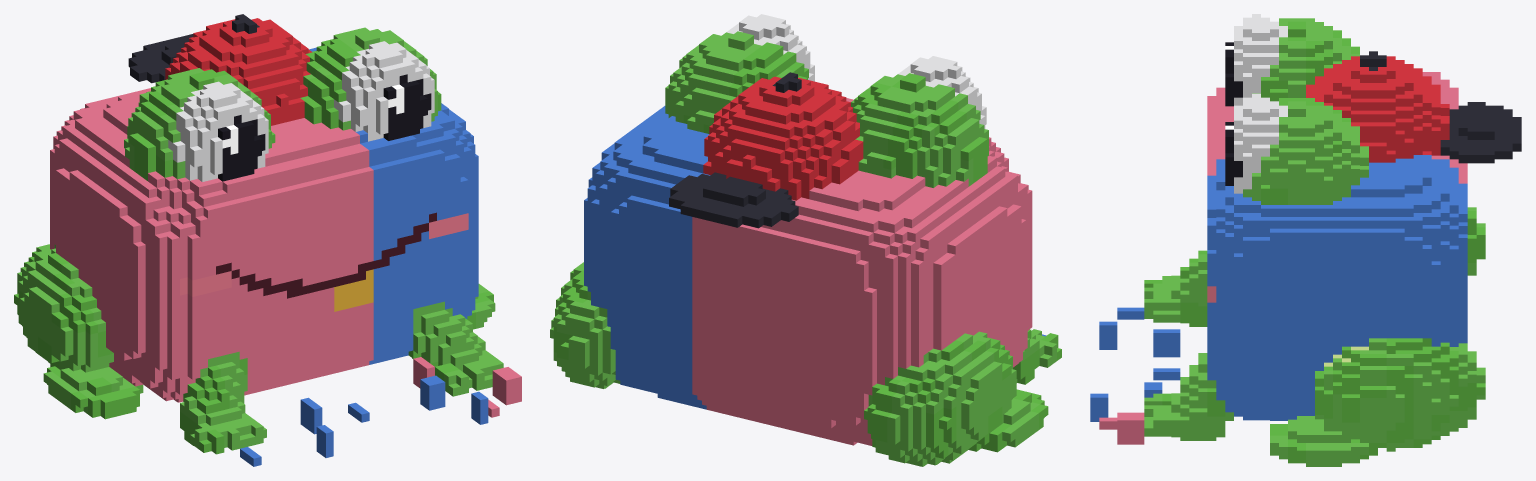
Rendered from gommarello_ranocchio.glb.
The picture shows the model from 3 angles, left to right: view 1: azimuth 30°, elevation 25°; view 2: azimuth 150°, elevation 25°; view 3: azimuth 270°, elevation 25°; orthographic projection. The views are drawn at different scales.
Parts seen in each view (by area): view 1: SM_Brainrot_gommarello_ranocchio; view 2: SM_Brainrot_gommarello_ranocchio; view 3: SM_Brainrot_gommarello_ranocchio.
Part boxes in pixels (left/top/right/bottom): SM_Brainrot_gommarello_ranocchio: left=14, top=14, right=521, bottom=466; SM_Brainrot_gommarello_ranocchio: left=550, top=14, right=1061, bottom=466; SM_Brainrot_gommarello_ranocchio: left=1090, top=14, right=1521, bottom=466.
Size of the model in its own units: 3.18 by 2.34 by 2.88.
1 material, 1 textured.
